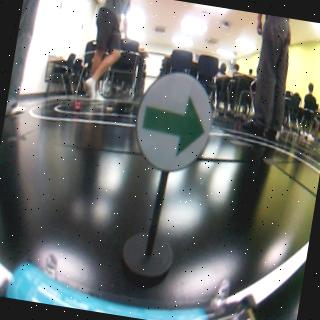right: (130, 68, 218, 174)
